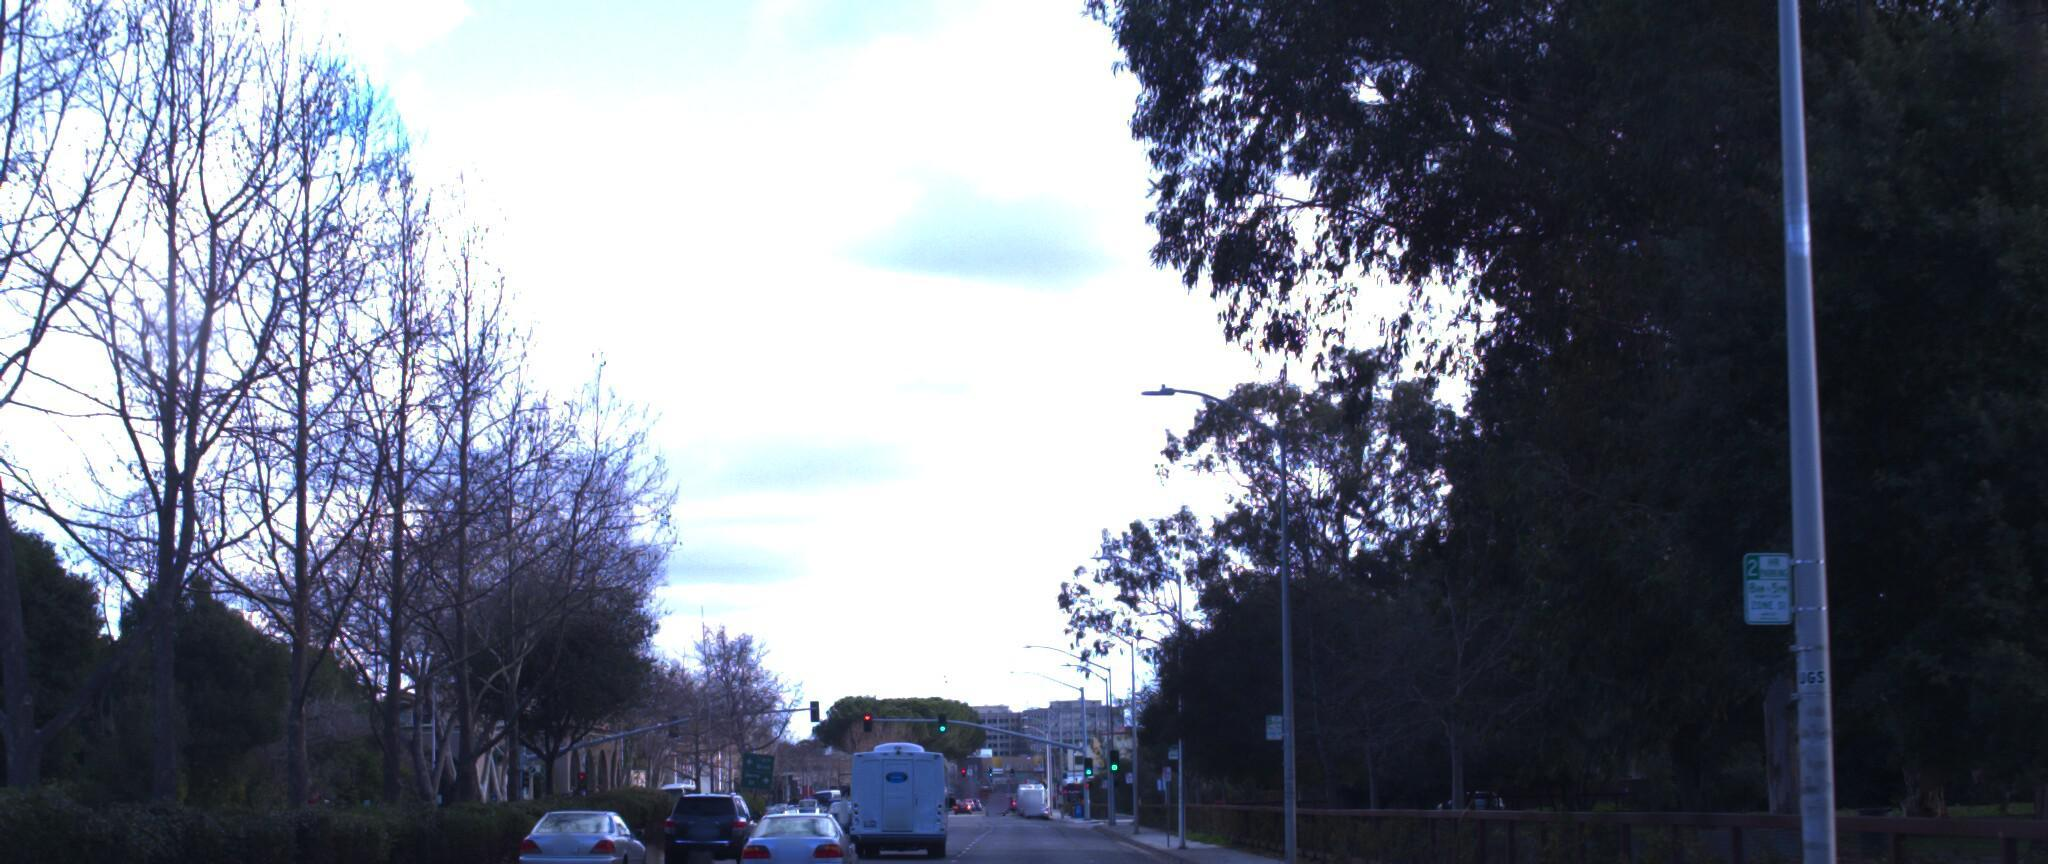bus: (845, 717, 974, 837)
car: (515, 780, 653, 864), (731, 786, 867, 864), (666, 767, 775, 848)
